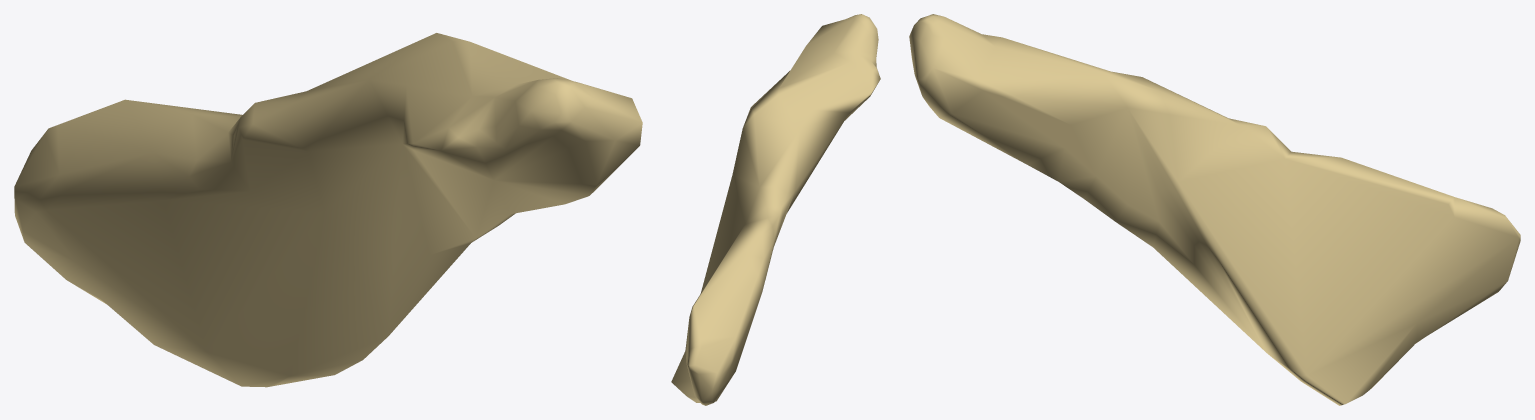
3 renders of one model, left to right at view 1: azimuth 30°, elevation 25°; view 2: azimuth 150°, elevation 25°; view 3: azimuth 270°, elevation 25°, orthographic. The views are drawn at different scales.
Parts seen in each view (by area): view 1: 右侧鼻骨; view 2: 右侧鼻骨; view 3: 右侧鼻骨.
Boxes of the visible parts, x1,y1,x2,y2 form: 右侧鼻骨: (14, 33, 642, 387); 右侧鼻骨: (671, 14, 880, 405); 右侧鼻骨: (909, 14, 1520, 405).
Bounding box in the file's own units: 0.0124 × 0.0308 × 0.0462.
